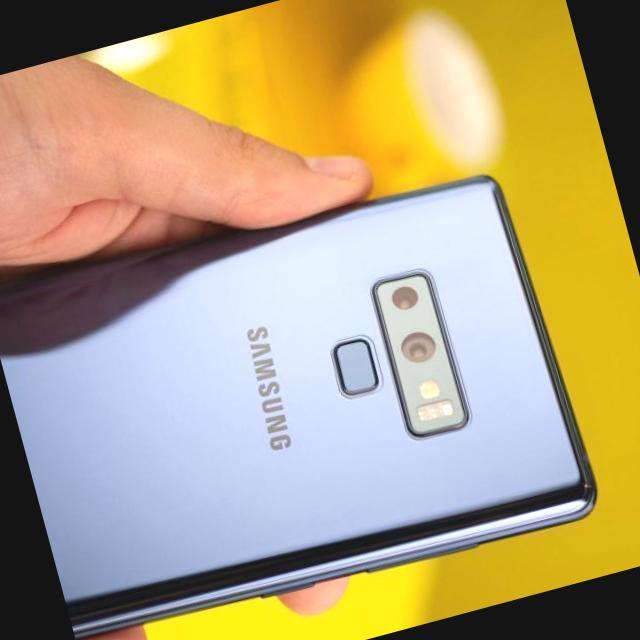lens_back: (380, 312, 452, 376)
phone: (0, 141, 601, 640)
